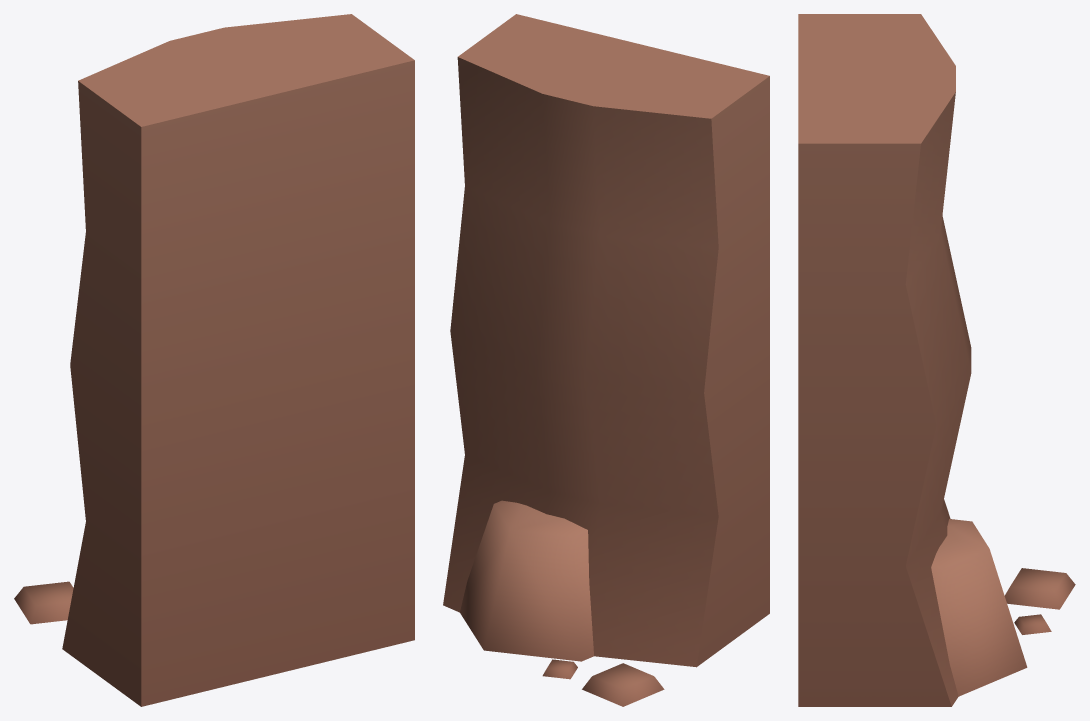
Rendered from template-wall-half.obj.
The picture shows the model from 3 angles, left to right: view 1: azimuth 30°, elevation 25°; view 2: azimuth 150°, elevation 25°; view 3: azimuth 270°, elevation 25°; orthographic projection. The views are drawn at different scales.
Visible parts, largest first — view 1: template-wall-half; view 2: template-wall-half; view 3: template-wall-half.
Part boxes in pixels (x1=…): template-wall-half: x1=14, y1=14, x2=414, y2=706; template-wall-half: x1=443, y1=14, x2=769, y2=706; template-wall-half: x1=798, y1=14, x2=1075, y2=706.
Size of the model in its own units: 2 by 4.05 by 1.81.
Materials: 1 (1 with a texture image).
